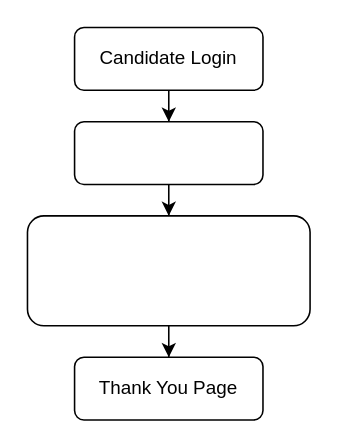
The diagram is 338 pixels wide and 447 high, and some of its shapes have lost their labels. The shapes that lost their labels are listed below. From the top down, each one's centre as x and y in pixels, then its label:
point (168, 152): Candidate Details
point (168, 270): Question Page (Candidates required to allow video & audio privileges)
